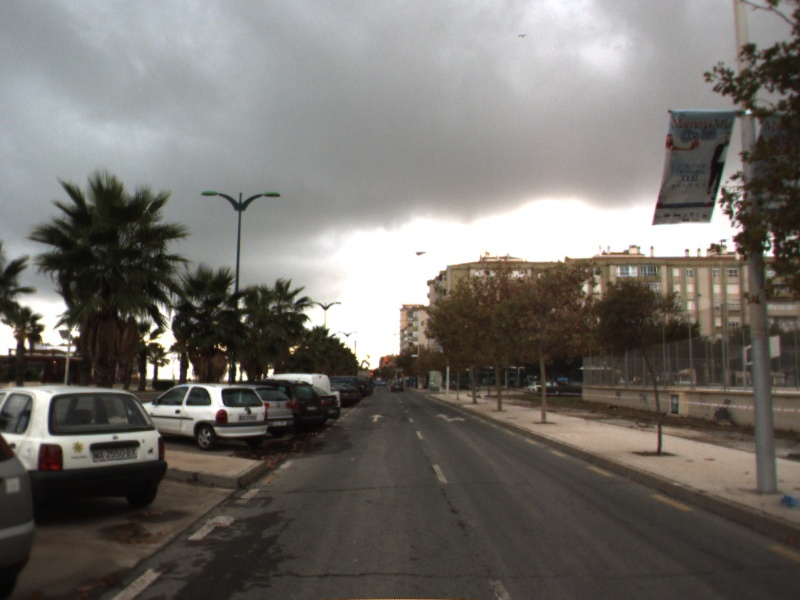STRAIGHT: (368, 412, 385, 423)
STRAIGHT_RIGHT: (433, 411, 468, 424)
